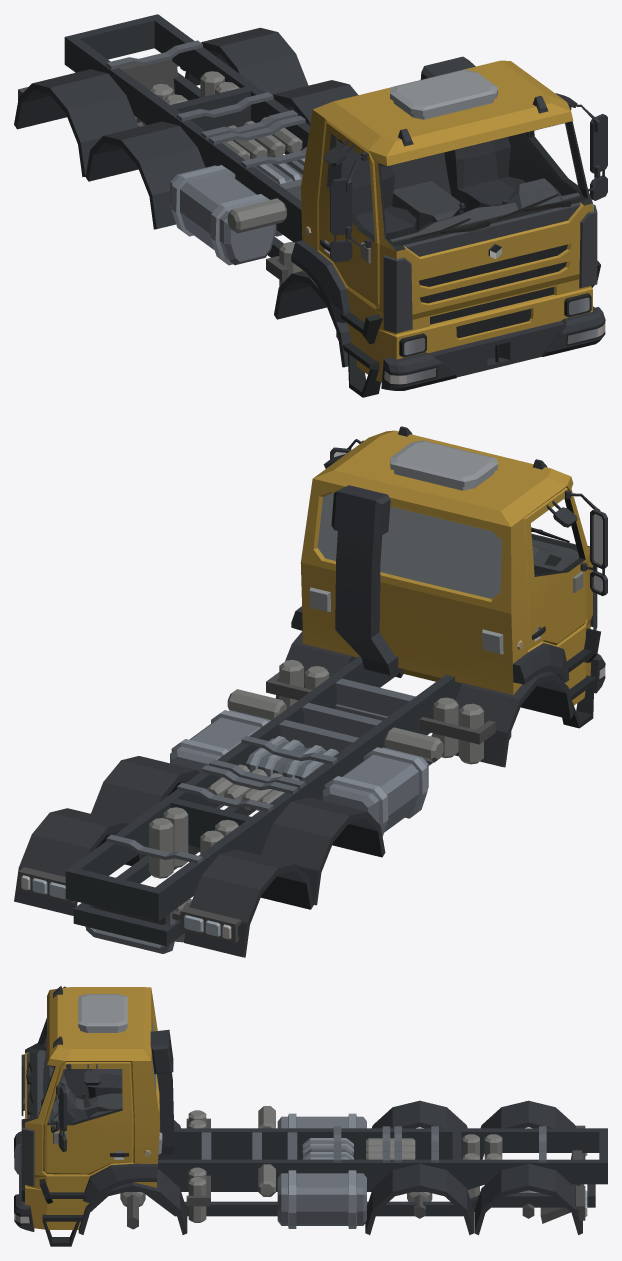
Rendered from SM_Veh_Truck_01.obj.
3 renders of one model, top to bottom at view 1: azimuth 30°, elevation 25°; view 2: azimuth 150°, elevation 25°; view 3: azimuth 270°, elevation 25°, orthographic. The views are drawn at different scales.
Parts seen in each view (by area): view 1: SM_Veh_Truck_01_0; view 2: SM_Veh_Truck_01_0; view 3: SM_Veh_Truck_01_0.
Part boxes in pixels (bbox=[...]): SM_Veh_Truck_01_0: bbox=[14, 14, 607, 397]; SM_Veh_Truck_01_0: bbox=[14, 426, 607, 957]; SM_Veh_Truck_01_0: bbox=[14, 986, 607, 1246].
Size of the model in its own units: 3.51 by 3.17 by 8.57.
1 material, 1 textured.
